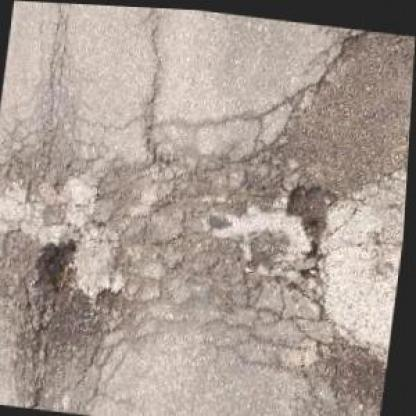pothole: (32, 233, 84, 295), (283, 176, 344, 226)
